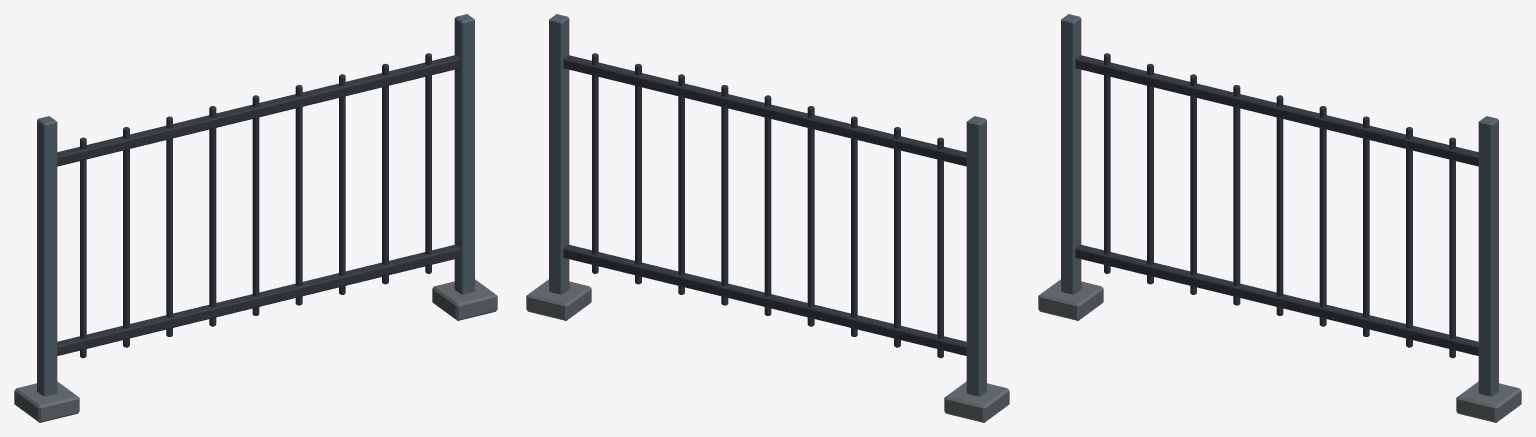
File: BH_Fence.glb
3 renders of one model, left to right at view 1: azimuth 30°, elevation 25°; view 2: azimuth 150°, elevation 25°; view 3: azimuth 330°, elevation 25°, orthographic.
Parts seen in each view (by area): view 1: BH_Fence_RenderMesh; view 2: BH_Fence_RenderMesh; view 3: BH_Fence_RenderMesh.
Part boxes in pixels (<box>): BH_Fence_RenderMesh: <box>14,14,497,422</box>; BH_Fence_RenderMesh: <box>526,14,1009,422</box>; BH_Fence_RenderMesh: <box>1038,14,1521,422</box>.
Size of what is drawn, in the model's own units: 3.3 by 1.99 by 0.32.
